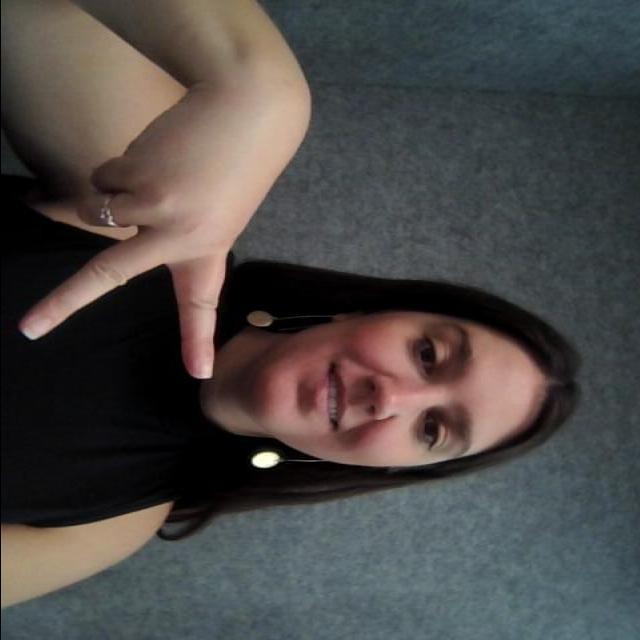Scissors: (11, 51, 293, 390)
